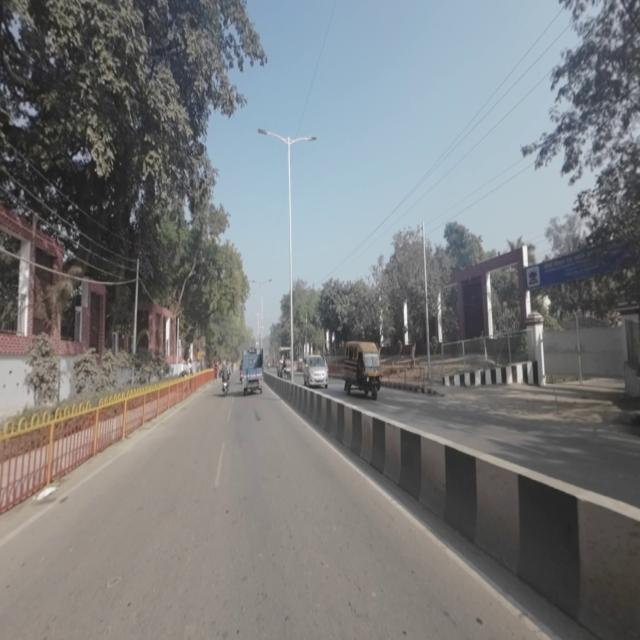Garbage: (30, 484, 58, 508)
